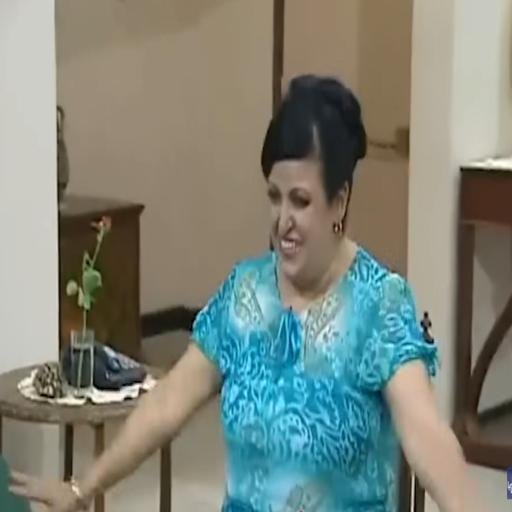jannet: (266, 135, 333, 286)
